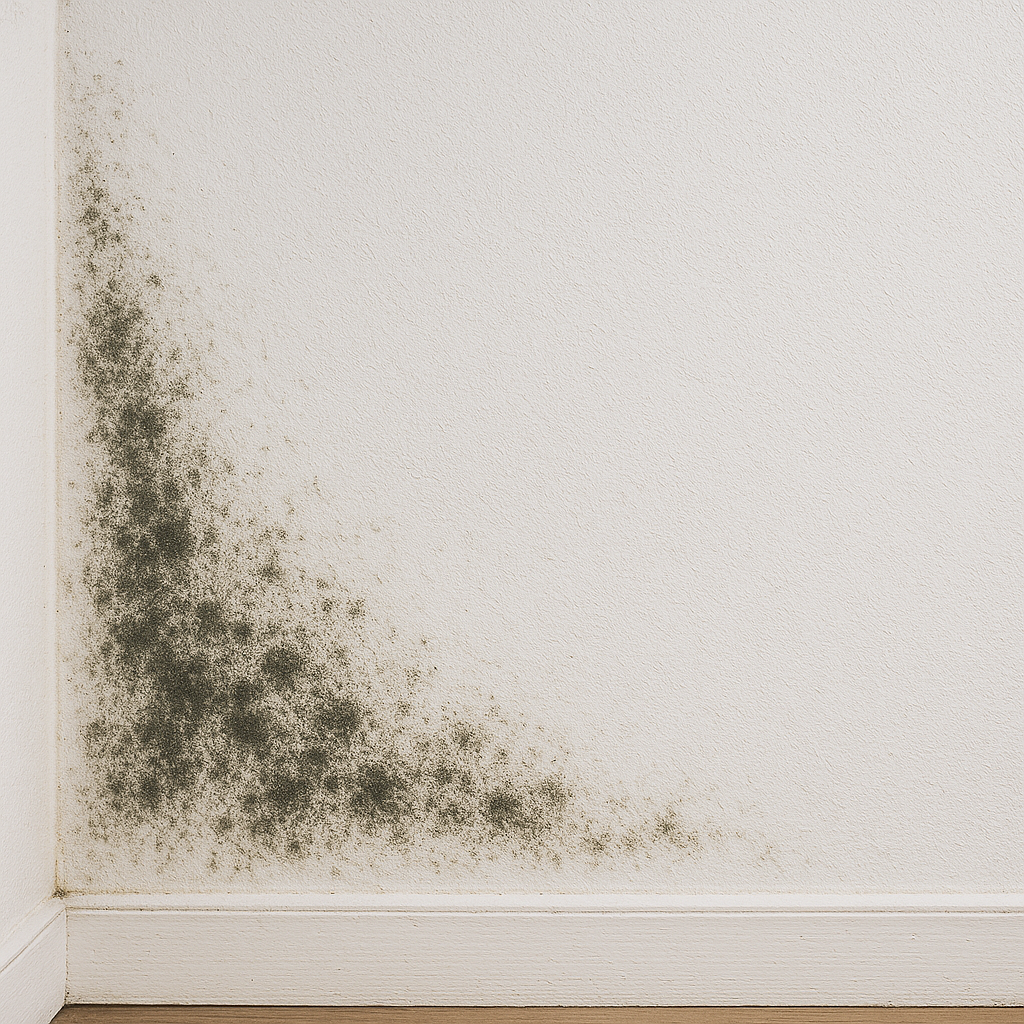schimmel: (79, 284, 180, 804), (194, 520, 296, 809), (307, 691, 401, 827), (447, 765, 557, 833), (226, 813, 342, 859)
